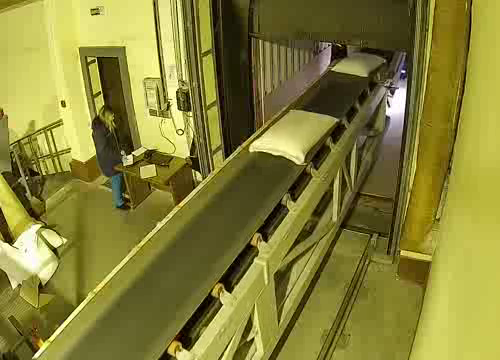bag: (247, 107, 342, 168), (328, 50, 387, 78)
